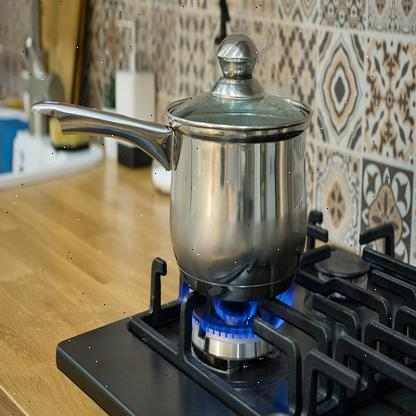fire: (180, 285, 300, 349)
